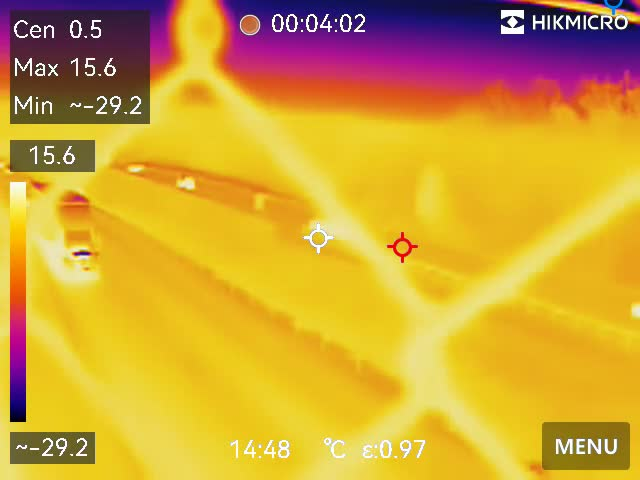heavyTruck: (31, 176, 110, 277)
